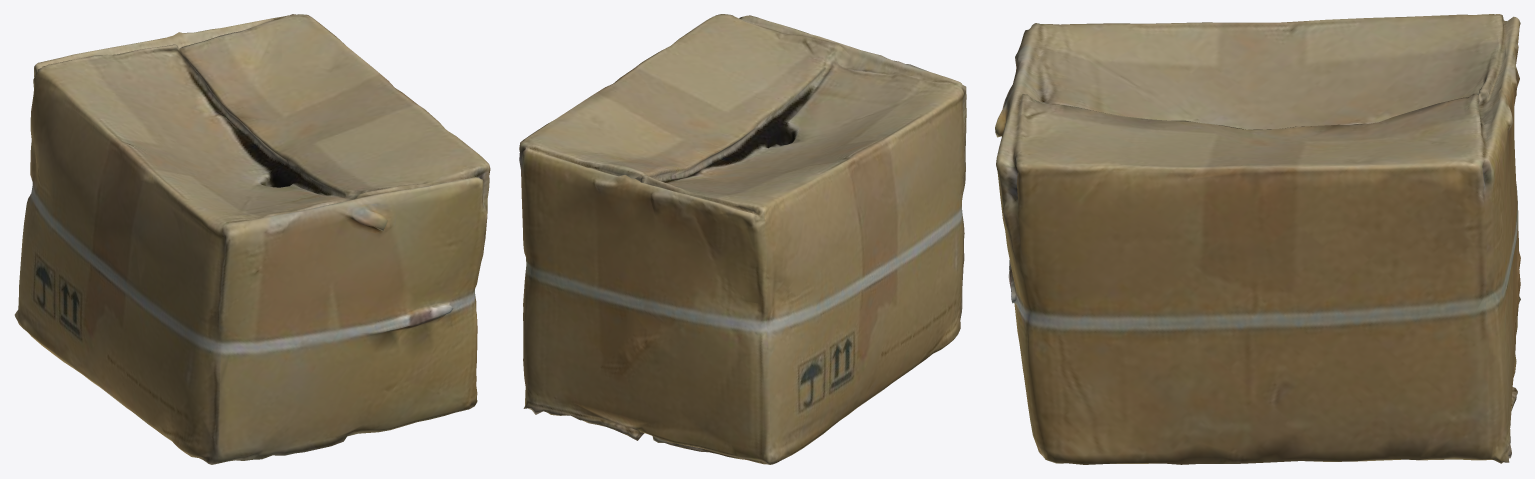
File: cardboard_box_01.glb
The picture shows the model from 3 angles, left to right: view 1: azimuth 30°, elevation 25°; view 2: azimuth 150°, elevation 25°; view 3: azimuth 270°, elevation 25°; orthographic projection. The views are drawn at different scales.
Visible parts, largest first — view 1: cardboard_box_01; view 2: cardboard_box_01; view 3: cardboard_box_01.
Part boxes in pixels (left/top/right/bottom): cardboard_box_01: left=14, top=14, right=490, bottom=464; cardboard_box_01: left=519, top=14, right=966, bottom=464; cardboard_box_01: left=995, top=14, right=1520, bottom=464.
Bounding box in the file's own units: 0.3869 × 0.3418 × 0.5159.
Materials: 1 (1 with a texture image).
